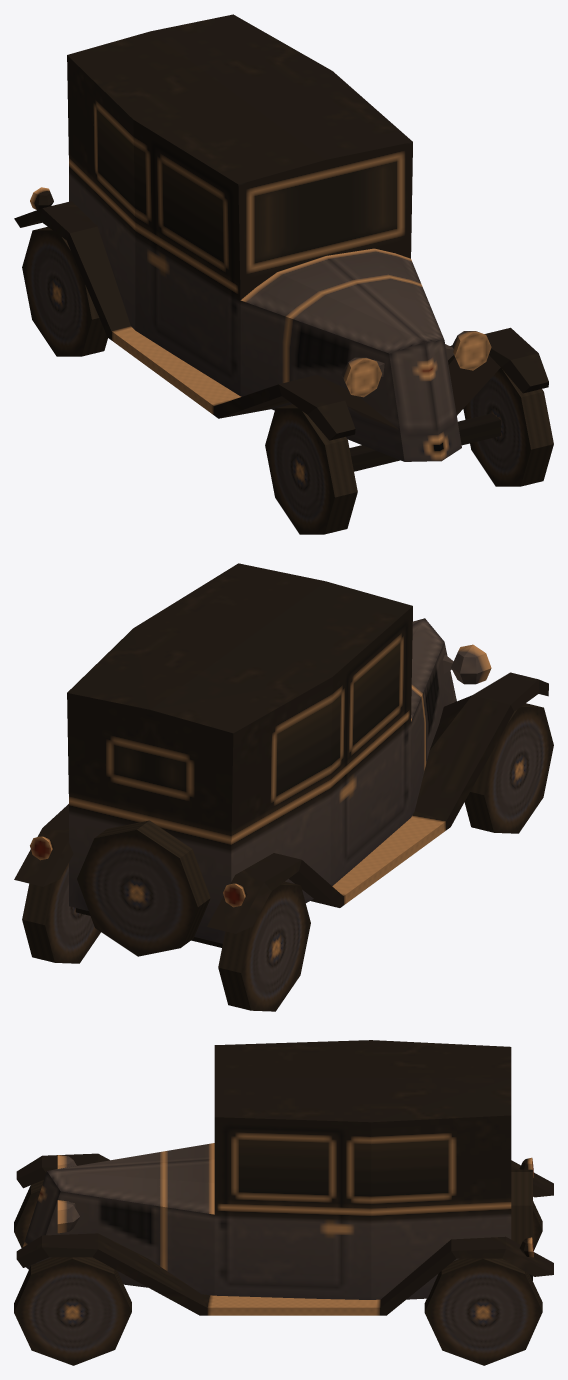
3 views of the same model, one above another, from view 1: azimuth 30°, elevation 25°; view 2: azimuth 150°, elevation 25°; view 3: azimuth 270°, elevation 25° (orthographic). The views are drawn at different scales.
Parts seen in each view (by area): view 1: car7; view 2: car7; view 3: car7.
Boxes of the visible parts, x1,y1,x2,y2 form: car7: [14, 14, 553, 534]; car7: [14, 563, 553, 1011]; car7: [14, 1040, 553, 1365].
Size of the model in its own units: 2.43 by 2.86 by 5.78.
1 material, 1 textured.
